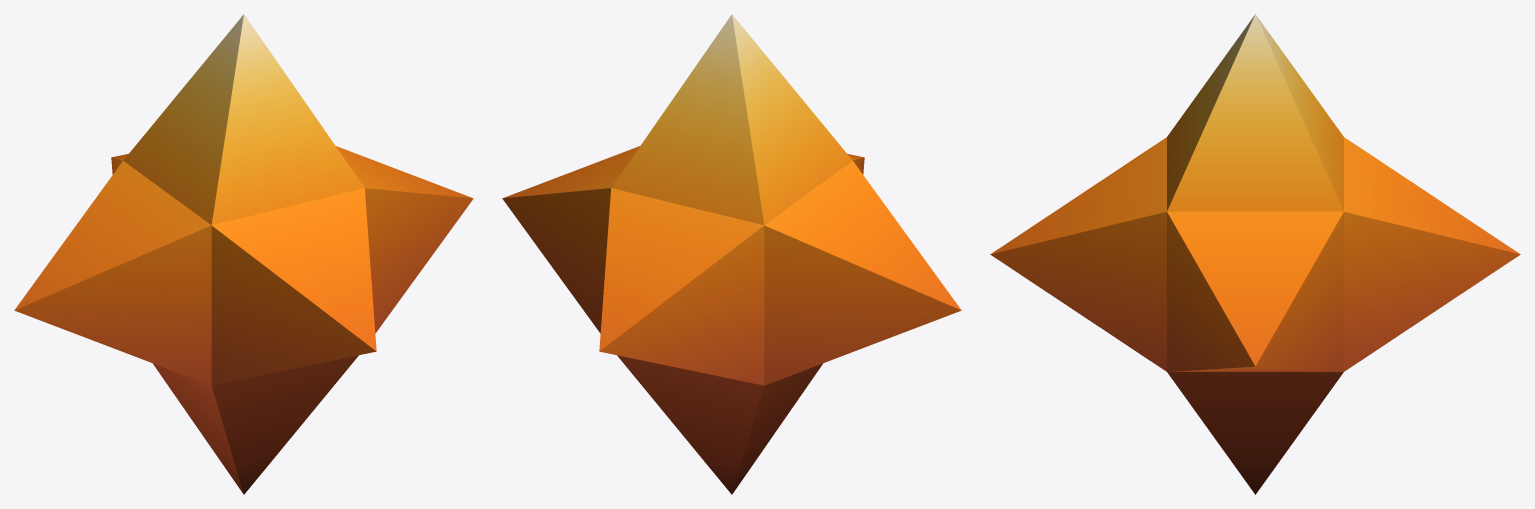
File: gem2.glb
3 renders of one model, left to right at view 1: azimuth 30°, elevation 25°; view 2: azimuth 150°, elevation 25°; view 3: azimuth 270°, elevation 25°, orthographic.
Visible parts, largest first — view 1: Gem4; view 2: Gem4; view 3: Gem4.
Part boxes in pixels (box(x1,y1,x2,y2)): Gem4: box(14, 14, 473, 494); Gem4: box(502, 14, 961, 494); Gem4: box(990, 14, 1520, 494).
Size of the model in its own units: 1 by 1 by 1.
Materials: 1 (1 with a texture image).
